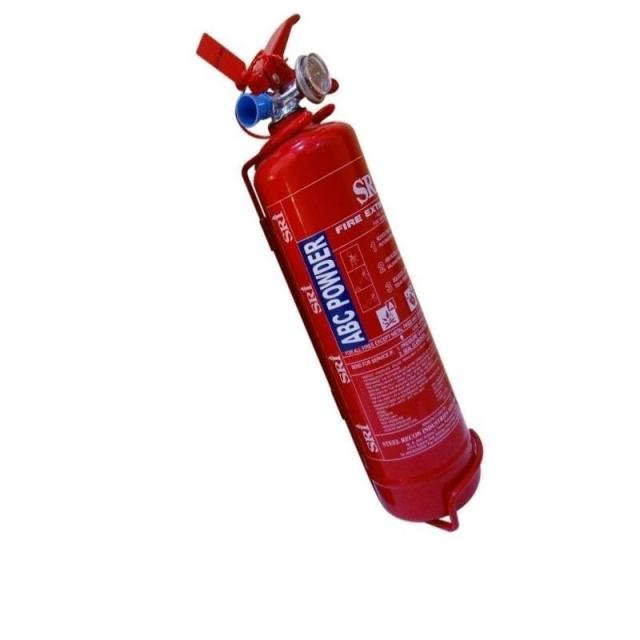fire_extinguisher: (191, 9, 490, 526)
